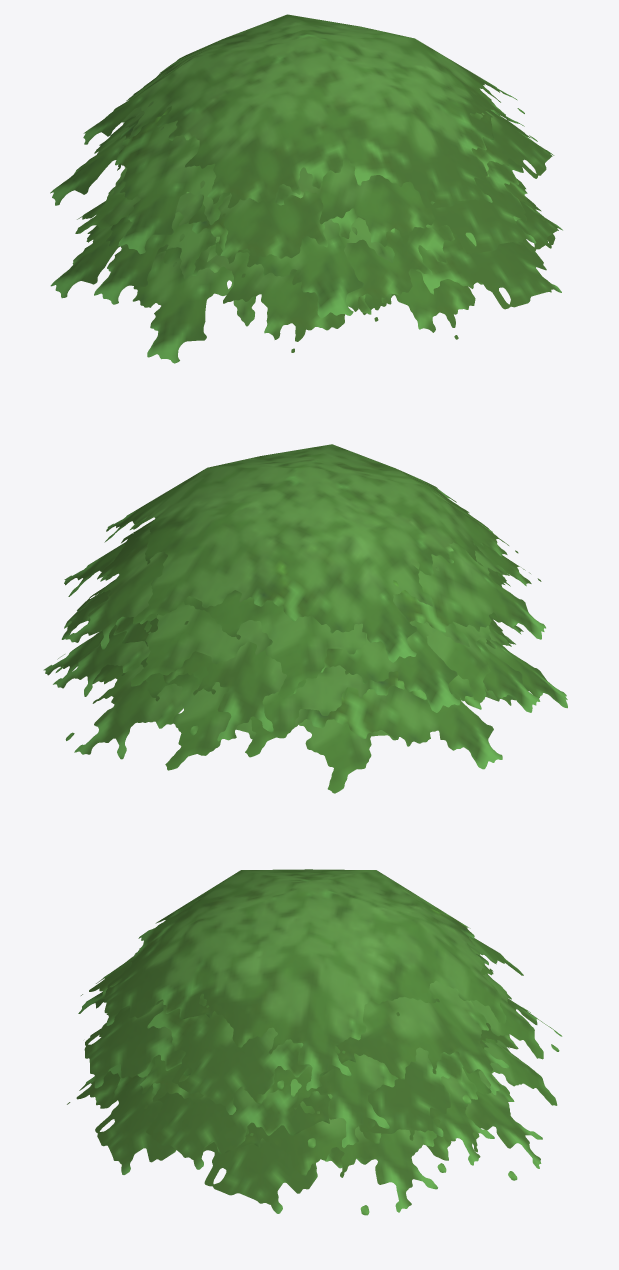
The model's file is gg_Shrub.FBX.
The picture shows the model from 3 angles, top to bottom: view 1: azimuth 30°, elevation 25°; view 2: azimuth 150°, elevation 25°; view 3: azimuth 270°, elevation 25°; orthographic projection. The views are drawn at different scales.
Visible parts, largest first — view 1: gg_Shrub; view 2: gg_Shrub; view 3: gg_Shrub.
Boxes of the visible parts, <box> form: gg_Shrub: <box>50,14,562,363</box>; gg_Shrub: <box>43,444,567,793</box>; gg_Shrub: <box>67,869,562,1215</box>.
Bounding box in the file's own units: 60.9 × 28.85 × 62.61.
Materials: 1 (1 with a texture image).
